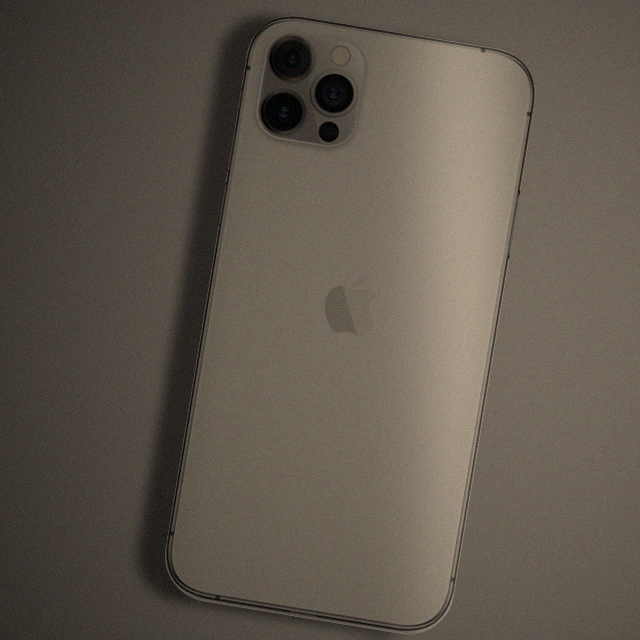iphone_12pro_silver: (143, 11, 537, 629), (253, 22, 374, 155)
